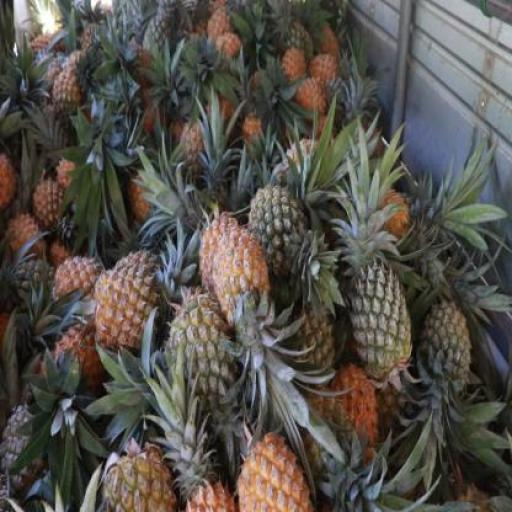------------------------------: (167, 296, 239, 406), (251, 185, 315, 284), (103, 443, 176, 512), (50, 71, 82, 130)
Pineapple - v8 v1: (94, 251, 164, 352), (235, 428, 313, 511), (219, 228, 279, 330), (202, 214, 251, 303), (53, 254, 100, 315), (32, 174, 70, 228)
